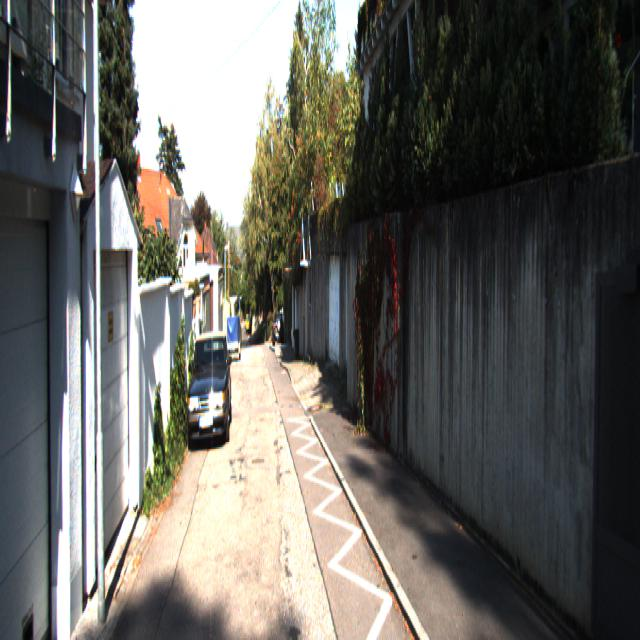Car: (184, 327, 232, 456), (228, 314, 241, 362), (272, 313, 286, 347)
